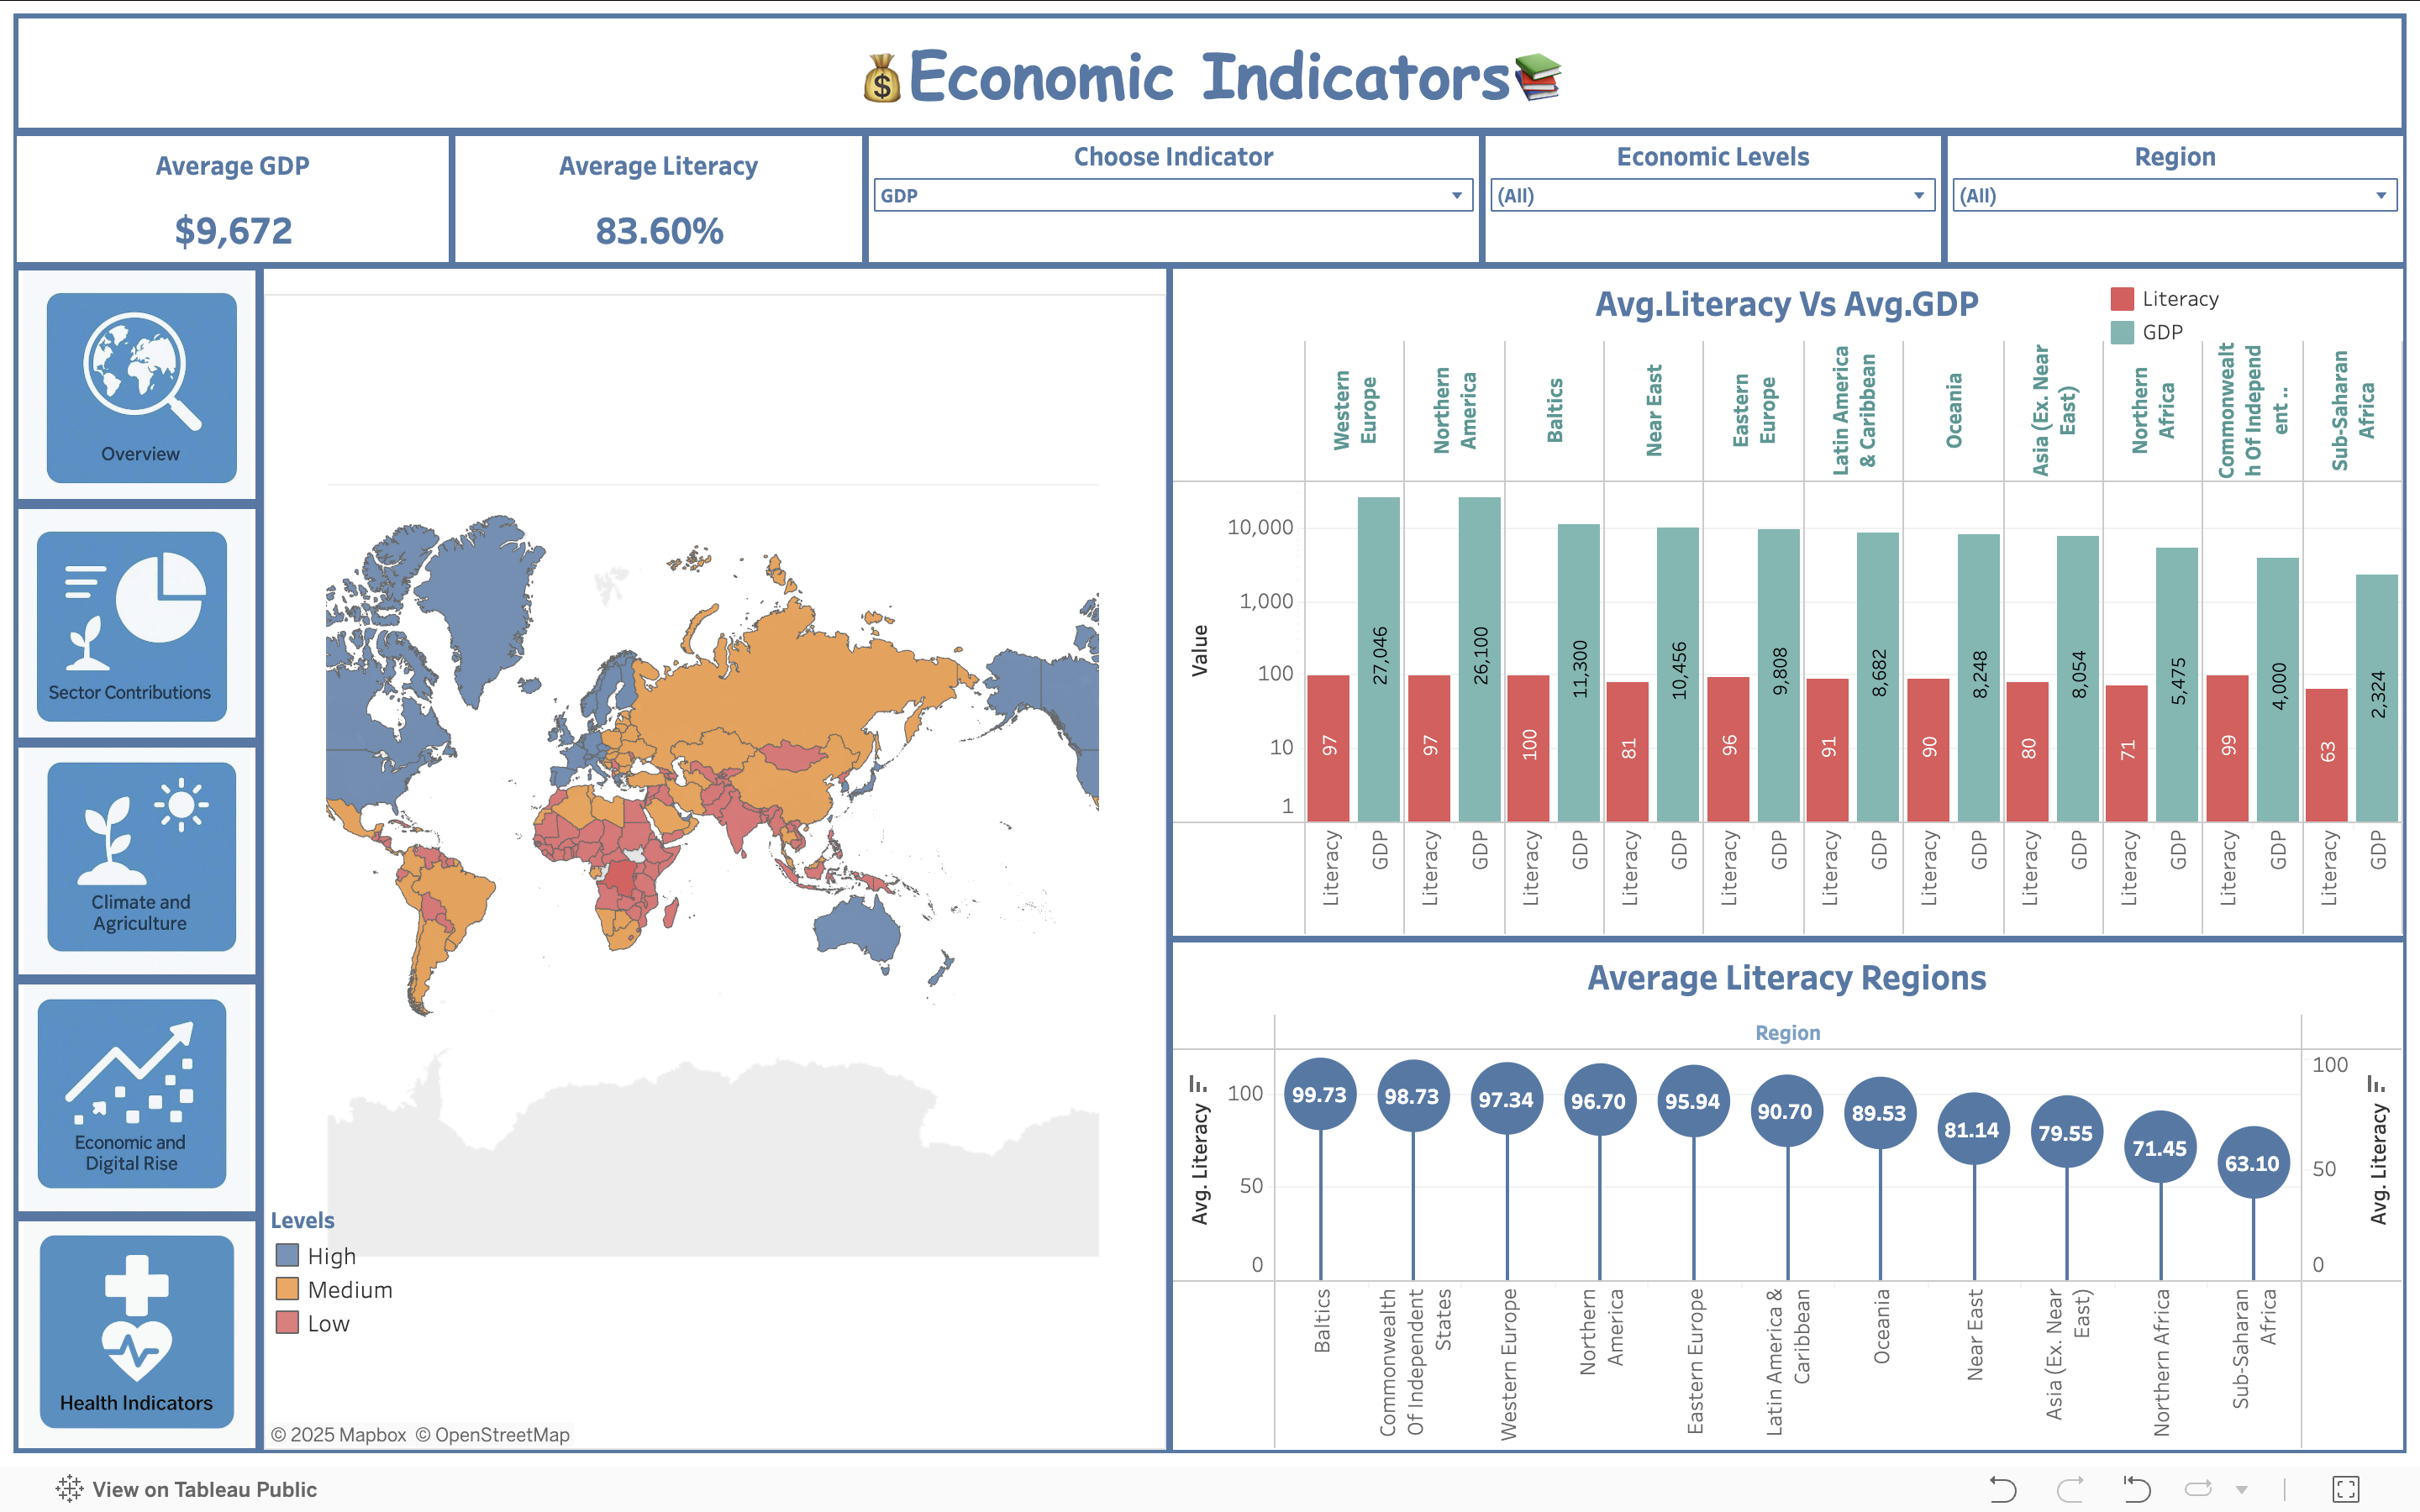

The page's visual inventory and layout, read from the dashboard file:
{"tool":"tableau","page":{"name":"D2-Economic Indicators","canvas":[1000,1000],"units":"permille","ordinal":1},"visuals":[{"type":"text","box":[6.4,11.8,987.2,80.5]},{"type":"worksheet","title":"KPI2-Avg.GDP","mark":"Automatic","box":[6.4,92.3,209.3,90.2]},{"type":"worksheet","title":"KPI3-Avg.Literacy","mark":"Automatic","box":[215.7,92.3,197.3,90.2]},{"type":"parameter","param":"[Parameters].[Literacy Parameter]","box":[413,92.3,199.6,90.2]},{"type":"filter","title":"Gdp&literacy map","param":"[federated.1jd3lyw0j6hafg0znkj9u0xqlb94].[none:Calculation_1243837924823797765:n","box":[612.6,92.3,190.5,90.2]},{"type":"filter","title":"Gdp&literacy map","param":"[federated.1jd3lyw0j6hafg0znkj9u0xqlb94].[none:region:nk]","box":[803.1,92.3,190.5,90.2]},{"type":"dashboard-object","box":[6.4,182,101.8,161.2]},{"type":"worksheet","title":"Gdp&literacy map","mark":"Multipolygon","box":[108.2,182.5,375.4,805.7]},{"type":"worksheet","title":"Avg.GDP Vs Avg.Literacy","mark":"Automatic","cols":["region"],"box":[483.6,182.5,510,457.4]},{"type":"legend","title":"Avg.GDP Vs Avg.Literacy","param":"[federated.1jd3lyw0j6hafg0znkj9u0xqlb94].[:Measure Names]","box":[869.8,192.9,123.8,71.1]},{"type":"dashboard-object","box":[6.4,343.2,101.8,161.2]},{"type":"dashboard-object","box":[6.4,504.4,101.8,161.2]},{"type":"worksheet","title":"Avg.Literacy","mark":"Automatic","rows":["literacy","literacy"],"cols":["region"],"box":[483.6,639.9,510,348.3]},{"type":"dashboard-object","box":[6.4,665.7,101.8,161.2]},{"type":"legend","title":"Gdp&literacy map","param":"[federated.1jd3lyw0j6hafg0znkj9u0xqlb94].[none:Calculation_1243837924823797765:n","box":[111.7,821.5,118.9,139.8]},{"type":"dashboard-object","box":[6.4,826.9,101.8,161.2]}]}

Visuals, with their boxes on the dashboard's canvas, which has no fixed pixel size, in thousandths of its width and height (x1, y1, x2, y2). These are canvas units, not pixel positions in the 2420x1512 screenshot, which may show the page scaled, cropped or inside an application window:
text: region(6, 12, 994, 92)
"KPI2-Avg.GDP" worksheet: region(6, 92, 216, 182)
"KPI3-Avg.Literacy" worksheet: region(216, 92, 413, 182)
parameter: region(413, 92, 613, 182)
"Gdp&literacy map" filter: region(613, 92, 803, 182)
"Gdp&literacy map" filter: region(803, 92, 994, 182)
dashboard-object: region(6, 182, 108, 343)
"Gdp&literacy map" worksheet (Multipolygon marks): region(108, 182, 484, 988)
"Avg.GDP Vs Avg.Literacy" worksheet: region(484, 182, 994, 640)
"Avg.GDP Vs Avg.Literacy" legend: region(870, 193, 994, 264)
dashboard-object: region(6, 343, 108, 504)
dashboard-object: region(6, 504, 108, 666)
"Avg.Literacy" worksheet: region(484, 640, 994, 988)
dashboard-object: region(6, 666, 108, 827)
"Gdp&literacy map" legend: region(112, 822, 231, 961)
dashboard-object: region(6, 827, 108, 988)
